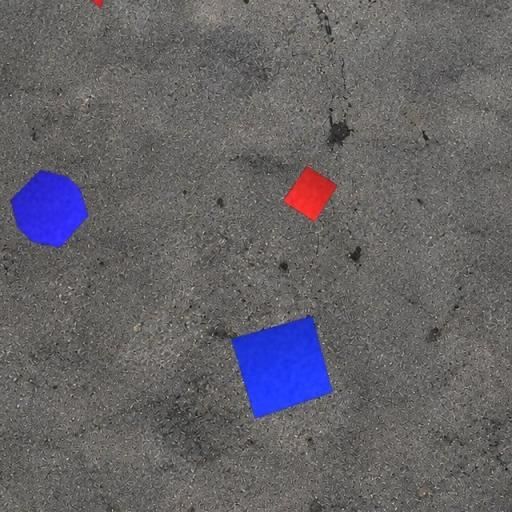BLUE_SQUARE: (230, 315, 334, 419)
RED_SQUARE: (282, 166, 338, 222)
